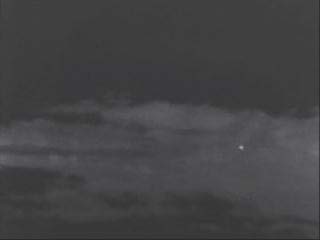Target: (240, 146, 243, 148)
